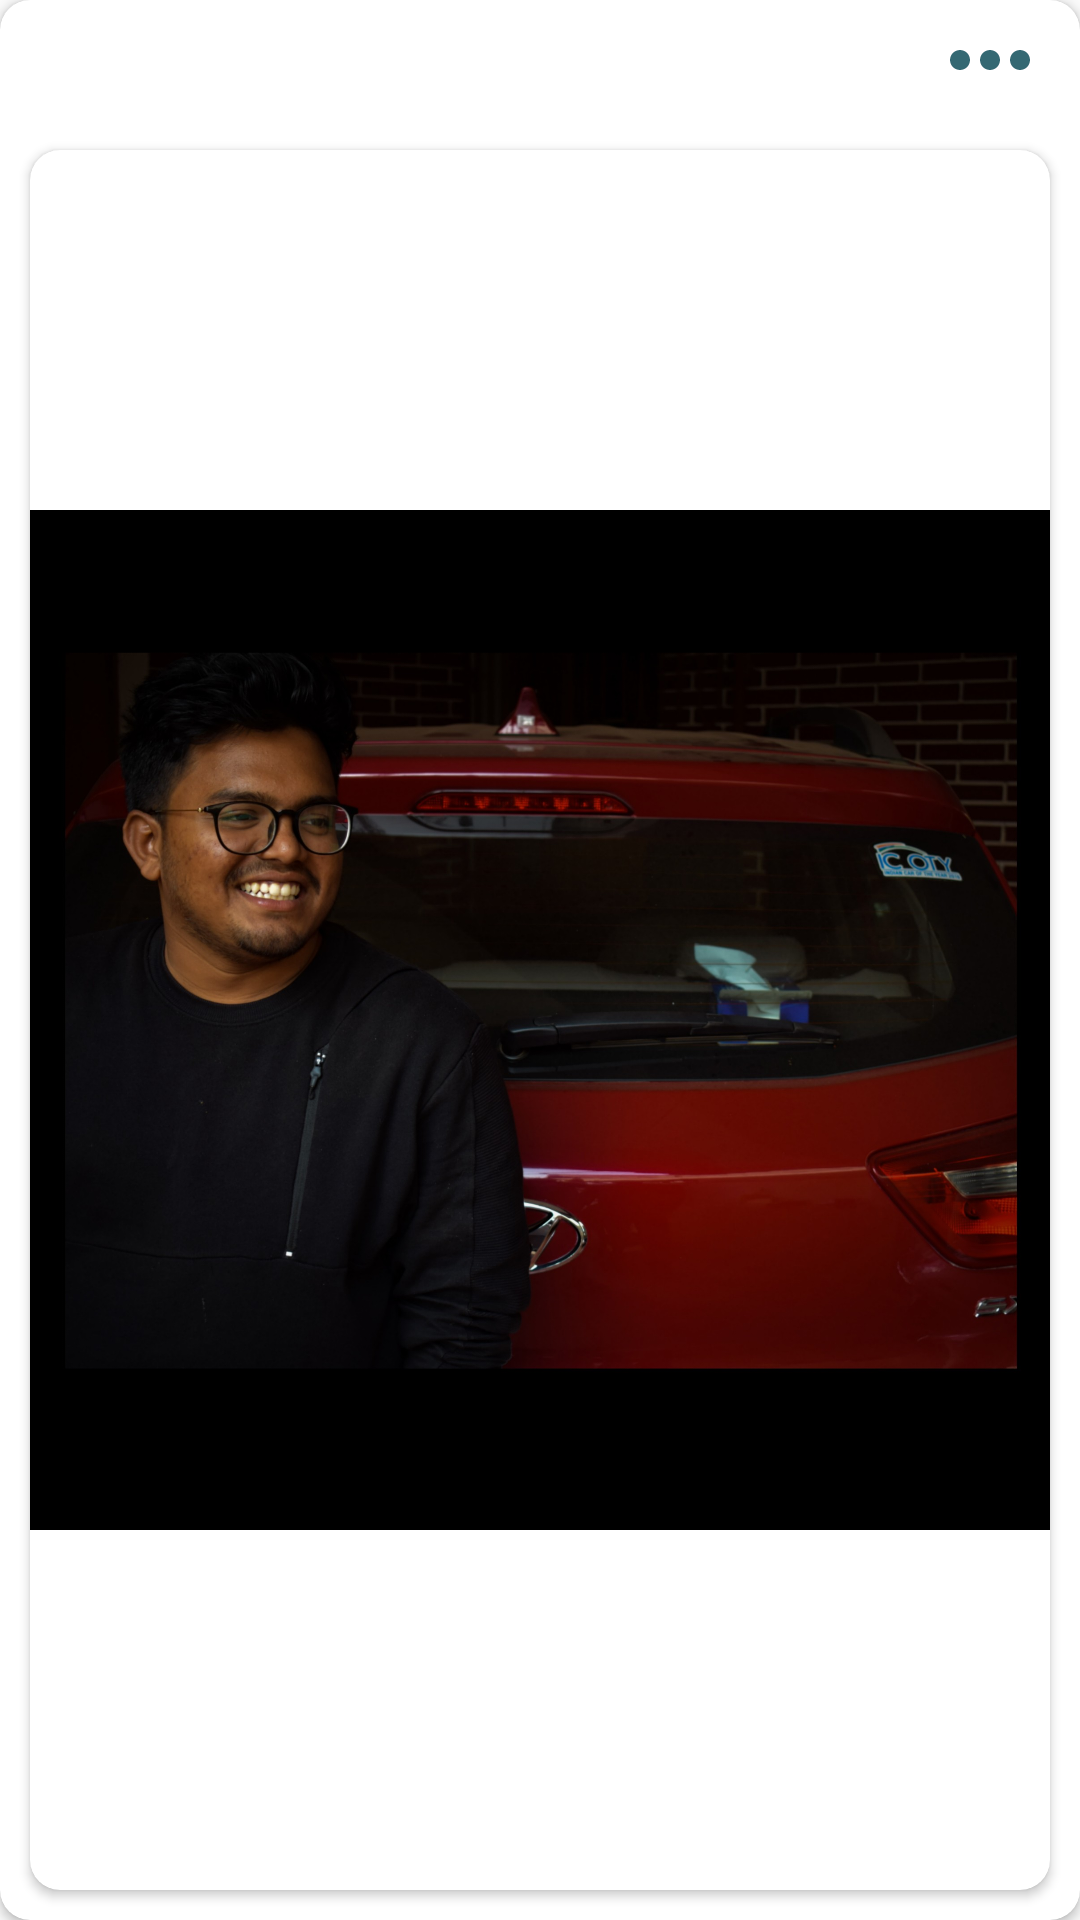

Named icons in this screenshot (1080 x 1920) and their centers, [x,y]:
morev: [990,60]
